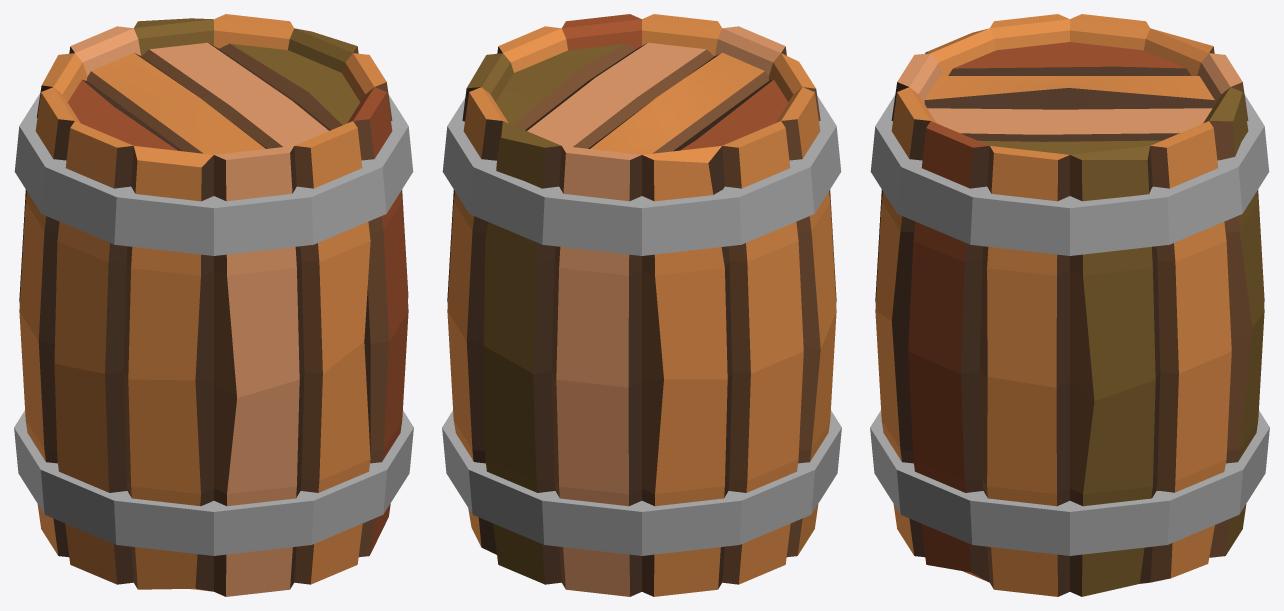
Rendered from barrel.fbx.
The picture shows the model from 3 angles, left to right: view 1: azimuth 30°, elevation 25°; view 2: azimuth 150°, elevation 25°; view 3: azimuth 270°, elevation 25°; orthographic projection.
Parts seen in each view (by area): view 1: SM_Prop_Barrel_01; view 2: SM_Prop_Barrel_01; view 3: SM_Prop_Barrel_01.
Part boxes in pixels (box(x1,y1,x2,y2)): SM_Prop_Barrel_01: box(14, 14, 413, 596); SM_Prop_Barrel_01: box(442, 14, 841, 596); SM_Prop_Barrel_01: box(870, 14, 1269, 596).
Size of the model in its own units: 77.72 by 93.69 by 77.72.
